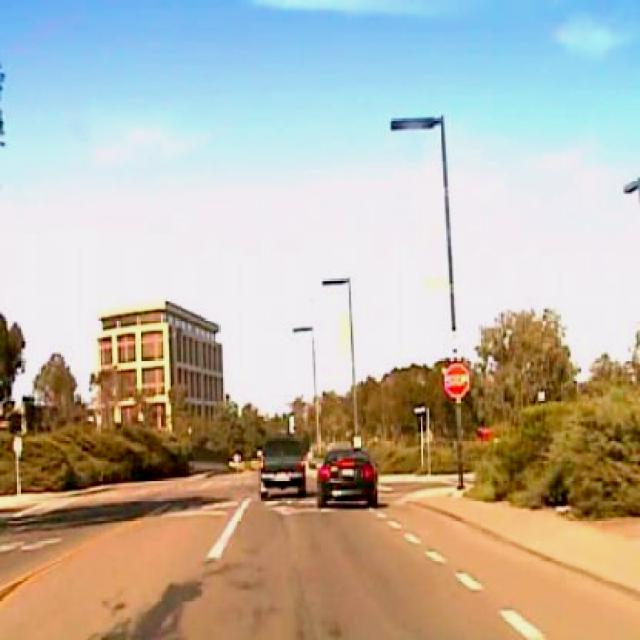Stop: (442, 362, 472, 402)
